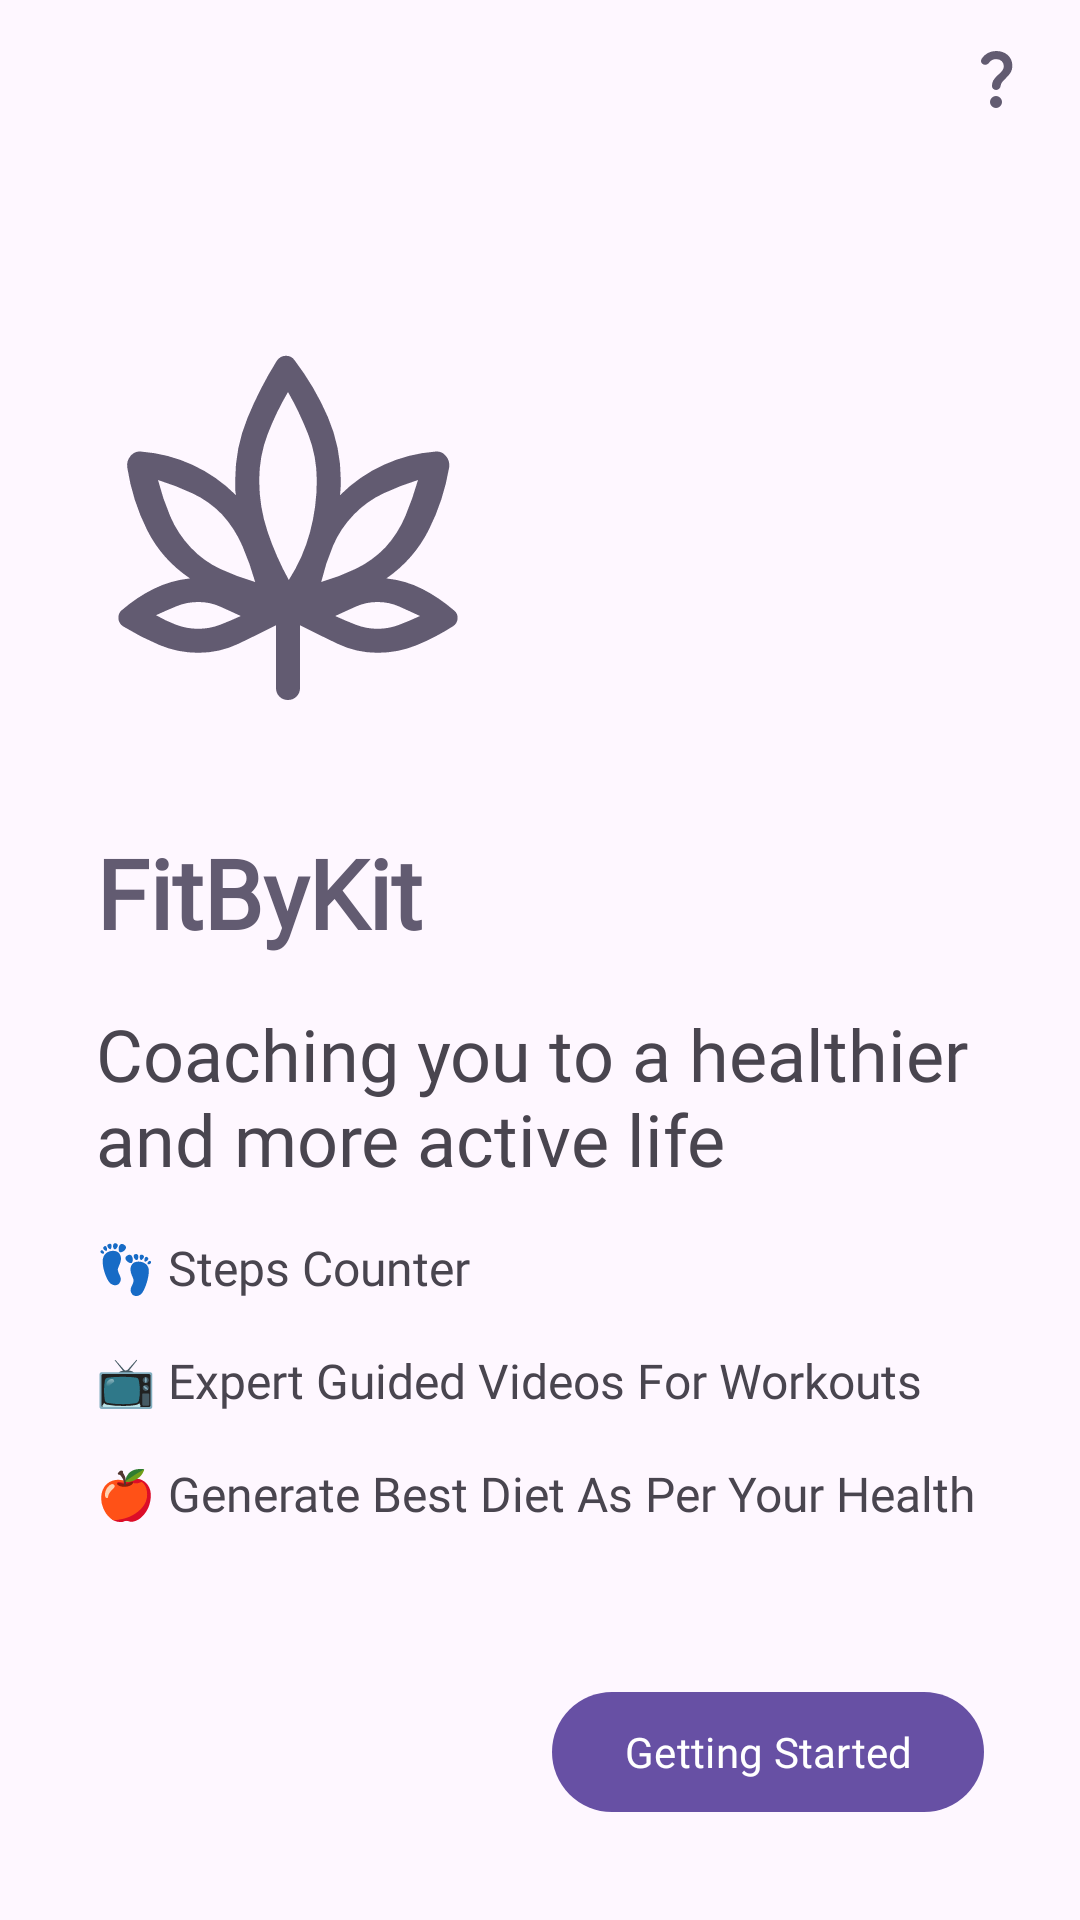

Named icons in this screenshot (1080x1920) and their bounding boxes, (x1, y1, x2, y2):
cannabis: (118, 355, 458, 700)
question mark: (981, 51, 1013, 108)
